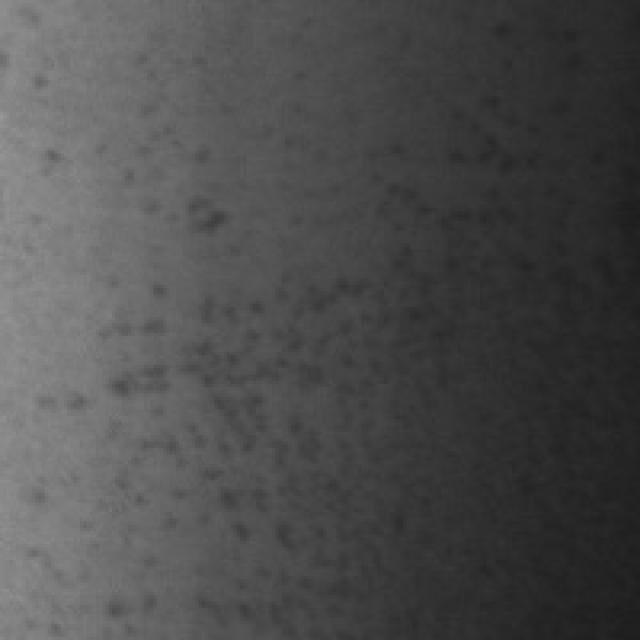pitted_surface: (58, 64, 476, 608)
